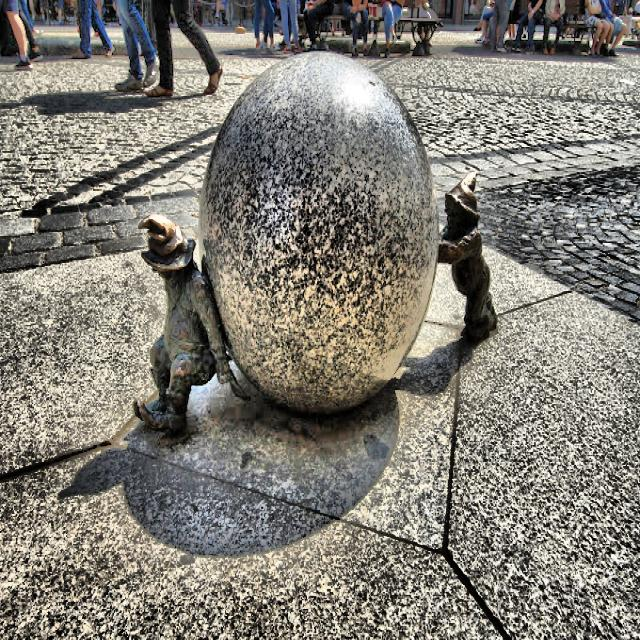Syzyfki: (122, 44, 508, 462)
